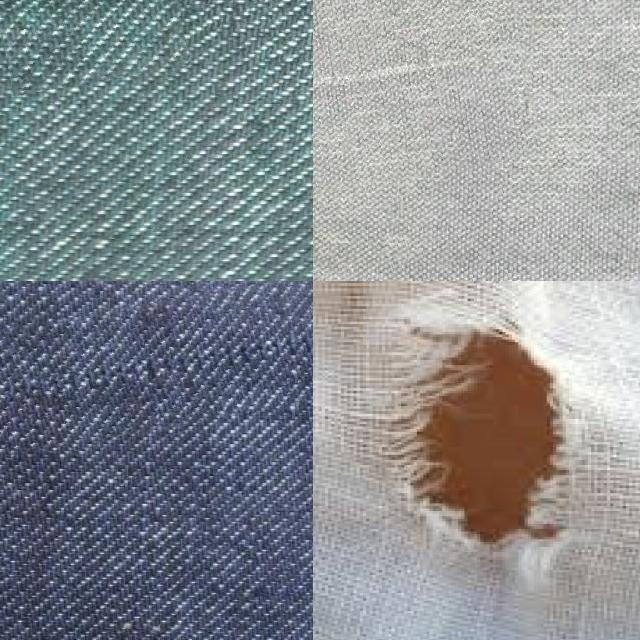Thread_other: (0, 288, 313, 467), (313, 0, 535, 221)
seam: (402, 320, 566, 552)
